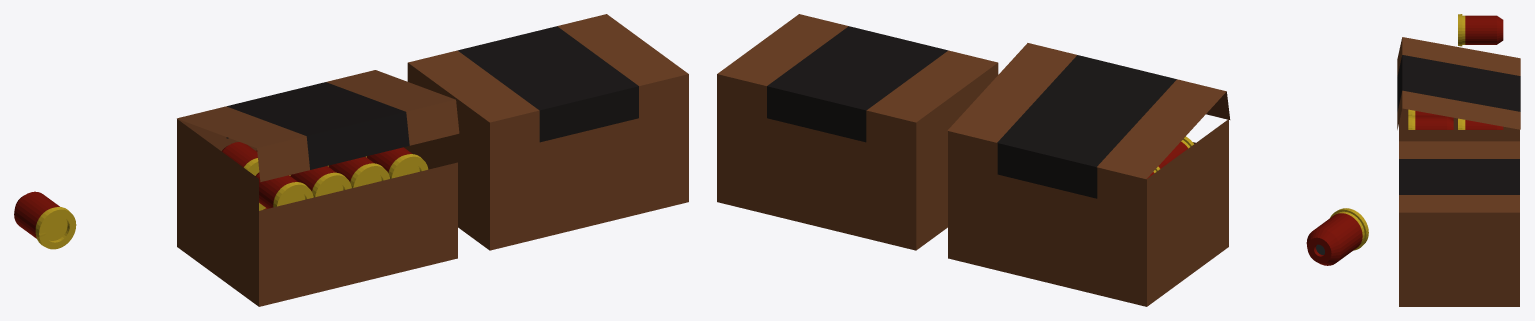
The model's file is SlugBox.fbx.
The picture shows the model from 3 angles, left to right: view 1: azimuth 30°, elevation 25°; view 2: azimuth 150°, elevation 25°; view 3: azimuth 270°, elevation 25°; orthographic projection. The views are drawn at different scales.
Parts seen in each view (by area): view 1: slugBoxClosed.001, slugBoxClosed, slugBoxClosed.002, SlugAmmo, SlugAmmoOne; view 2: slugBoxClosed.001, slugBoxClosed, slugBoxClosed.002, SlugAmmoOne; view 3: slugBoxClosed.001, slugBoxClosed.002, slugBoxClosed, SlugAmmoOne, SlugAmmo.
Part boxes in pixels (x1,y1,x2,y2): slugBoxClosed.001: (407,14,688,250); slugBoxClosed: (177,119,457,306); slugBoxClosed.002: (177,70,459,181); SlugAmmo: (221,142,428,210); SlugAmmoOne: (14,191,76,249); slugBoxClosed.001: (717,14,998,250); slugBoxClosed: (948,119,1228,306); slugBoxClosed.002: (947,43,1230,179); SlugAmmoOne: (1306,208,1368,265); slugBoxClosed.001: (1399,141,1519,306); slugBoxClosed.002: (1397,37,1520,129); slugBoxClosed: (1399,108,1519,141); SlugAmmoOne: (1458,14,1503,46); SlugAmmo: (1408,109,1503,129).
Bounding box in the file's own units: 70.73 × 17.4 × 16.85.
